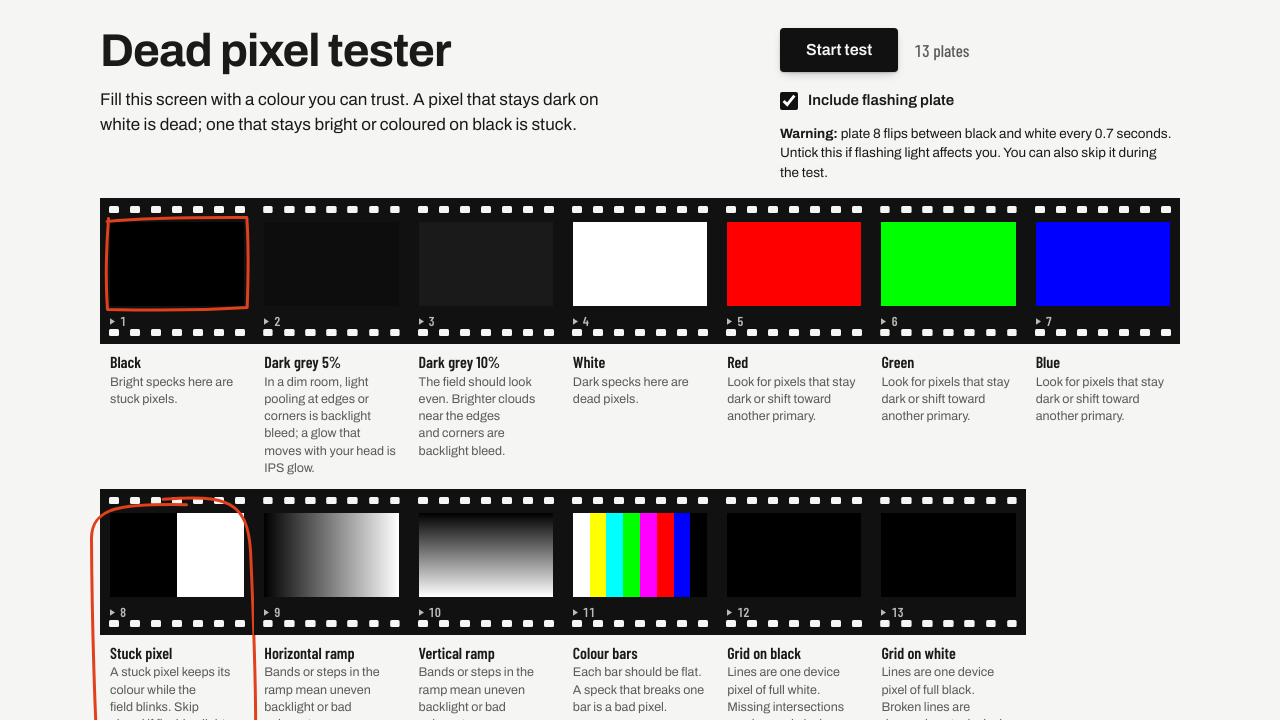
Test case: keyboard › ignores keys held with Ctrl, Alt or Meta, but not Shift
Later steps or results of the test are not shown.
Click the button "Start test" at (839,50), box left=780, top=28, right=898, bottom=72
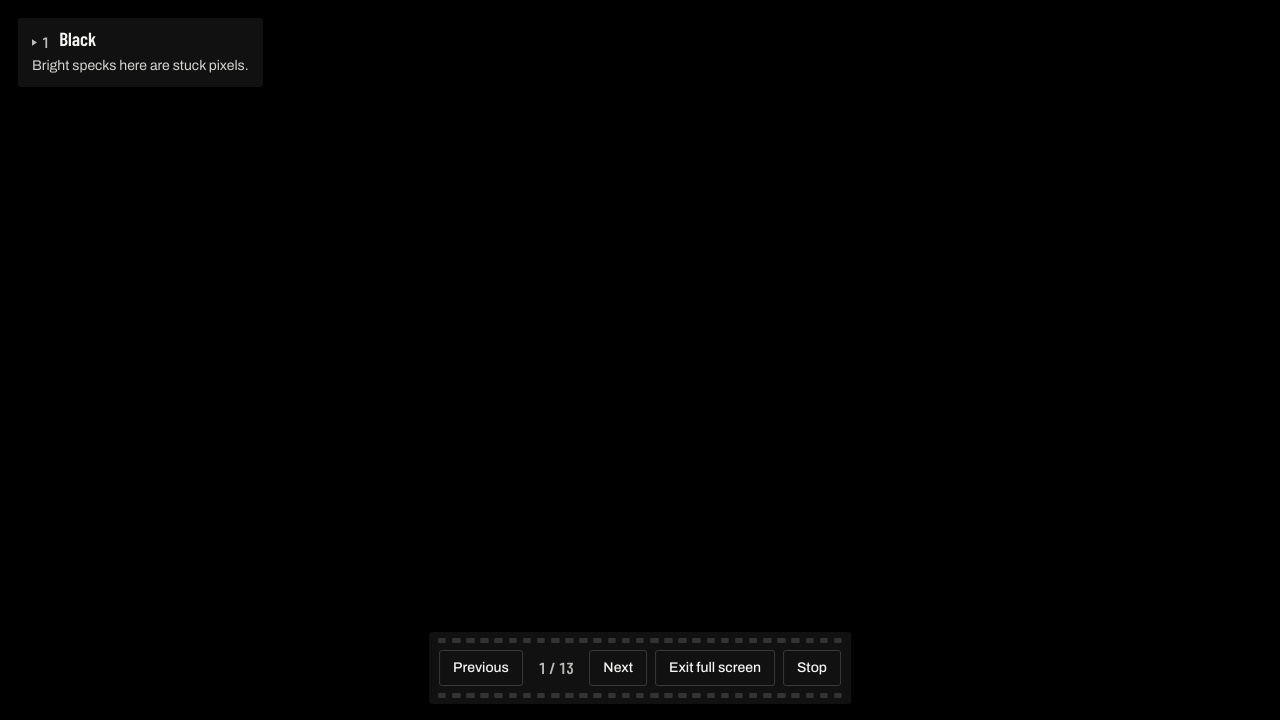
Press ArrowRight
Press ArrowRight
Press ArrowRight
Press Escape
Expected: the element with class "stage" is shown
